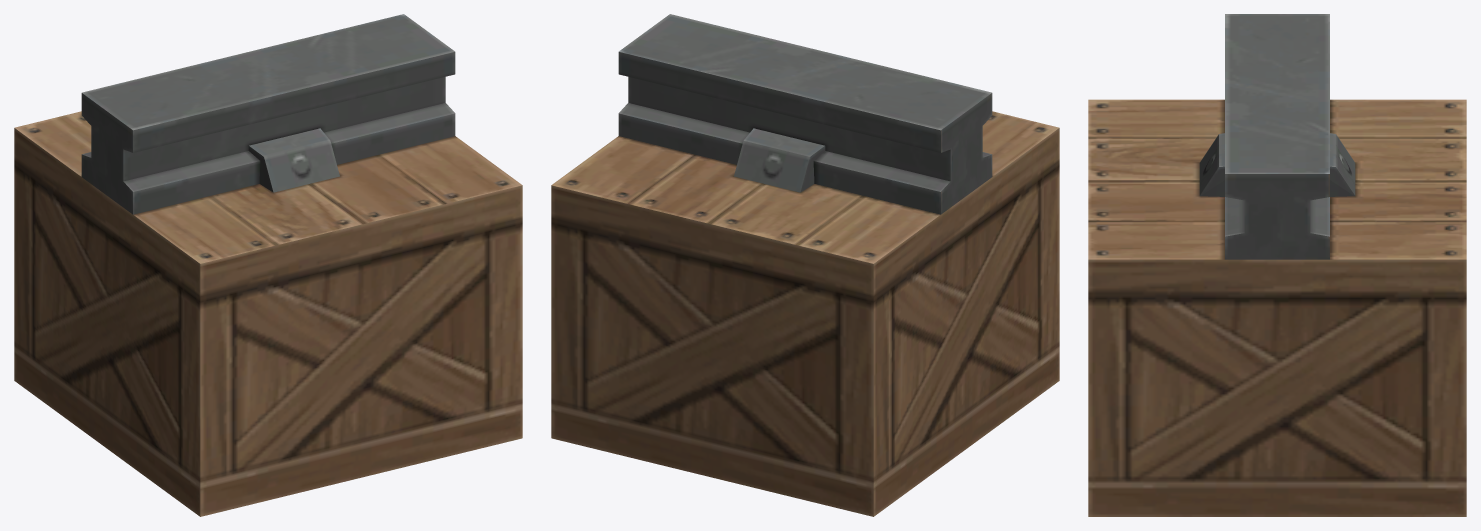
The model's file is D45_RAIL_01T.obj.
3 renders of one model, left to right at view 1: azimuth 30°, elevation 25°; view 2: azimuth 150°, elevation 25°; view 3: azimuth 270°, elevation 25°, orthographic.
Visible parts, largest first — view 1: D45_RAIL_01T; view 2: D45_RAIL_01T; view 3: D45_RAIL_01T.
Boxes of the visible parts, x1,y1,x2,y2 form: D45_RAIL_01T: (14, 14, 522, 516); D45_RAIL_01T: (551, 14, 1059, 516); D45_RAIL_01T: (1088, 14, 1466, 516).
Bounding box in the file's own units: 1 × 1 × 1.
1 material, 1 textured.
